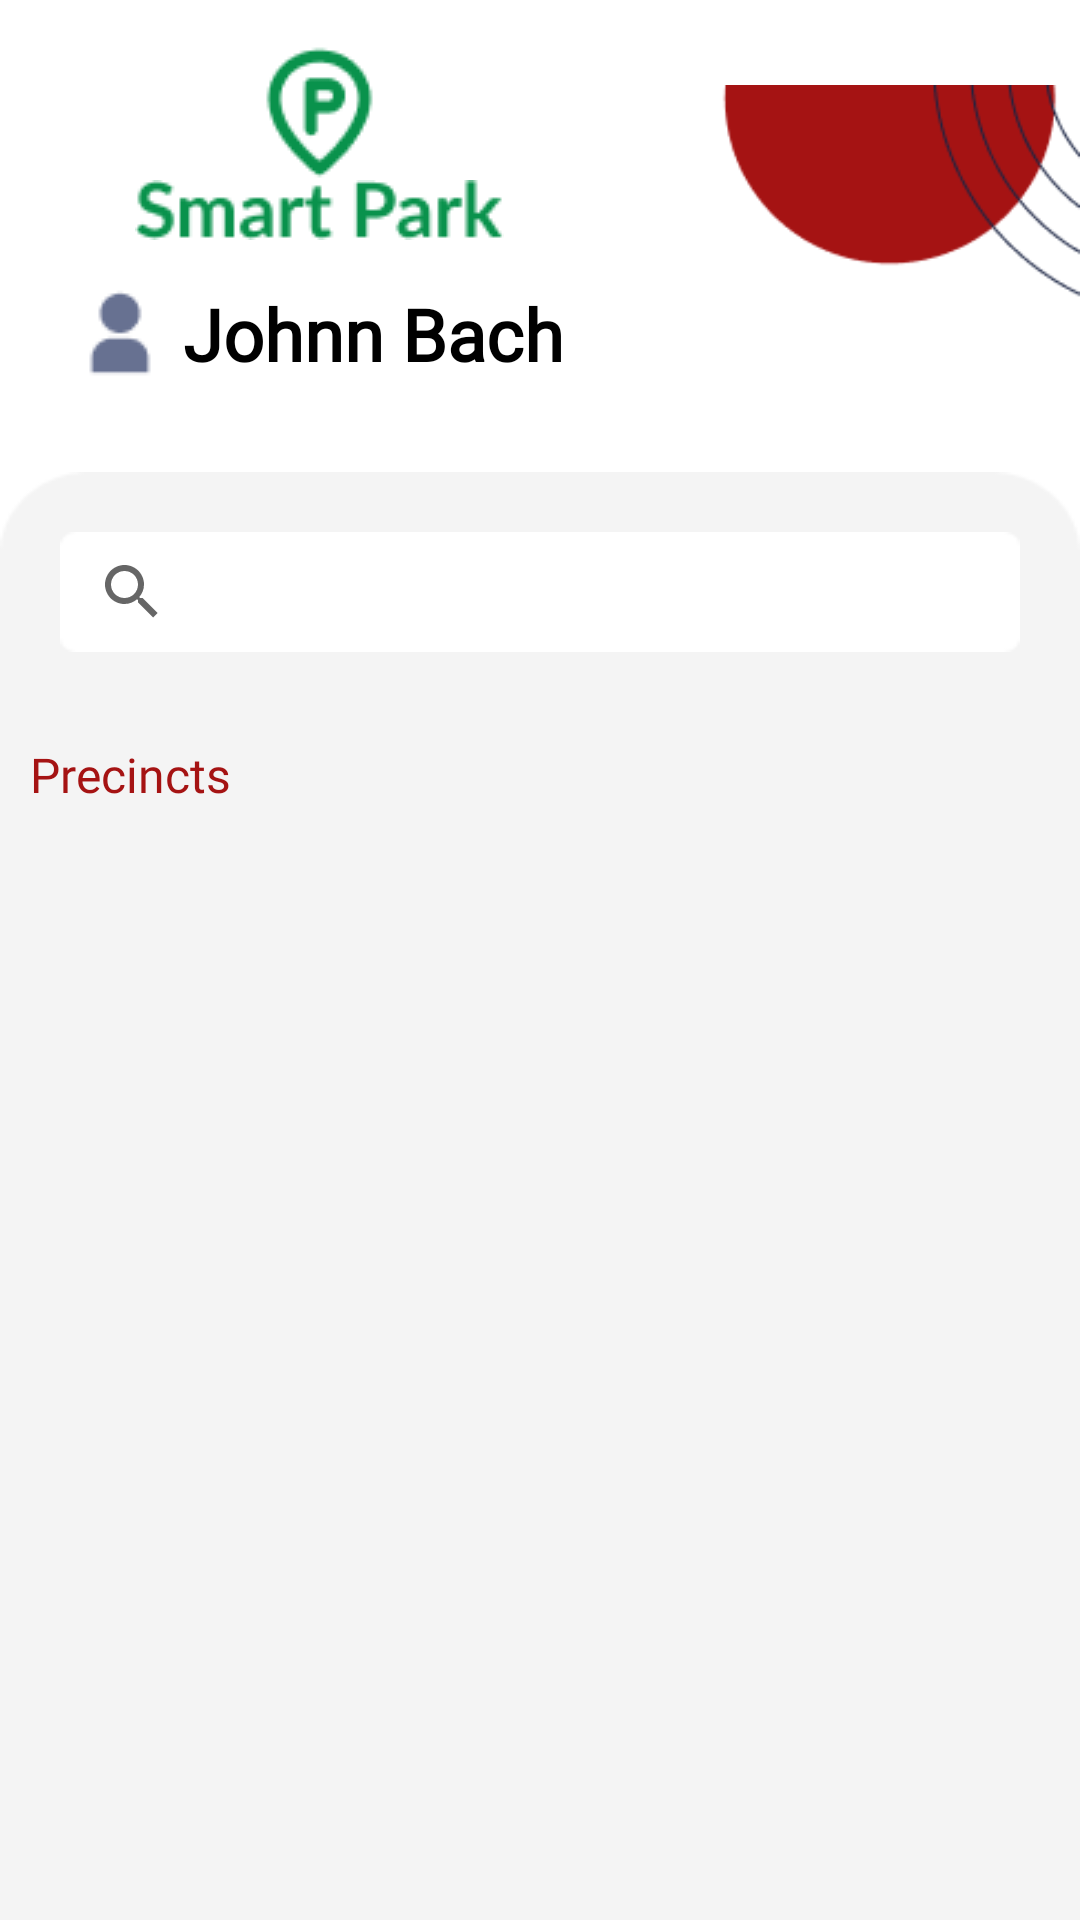

Where icons sit on this 1080 × 1920 app screen, as [x1, y1, x2, y2]:
parking: [266, 48, 373, 177]
